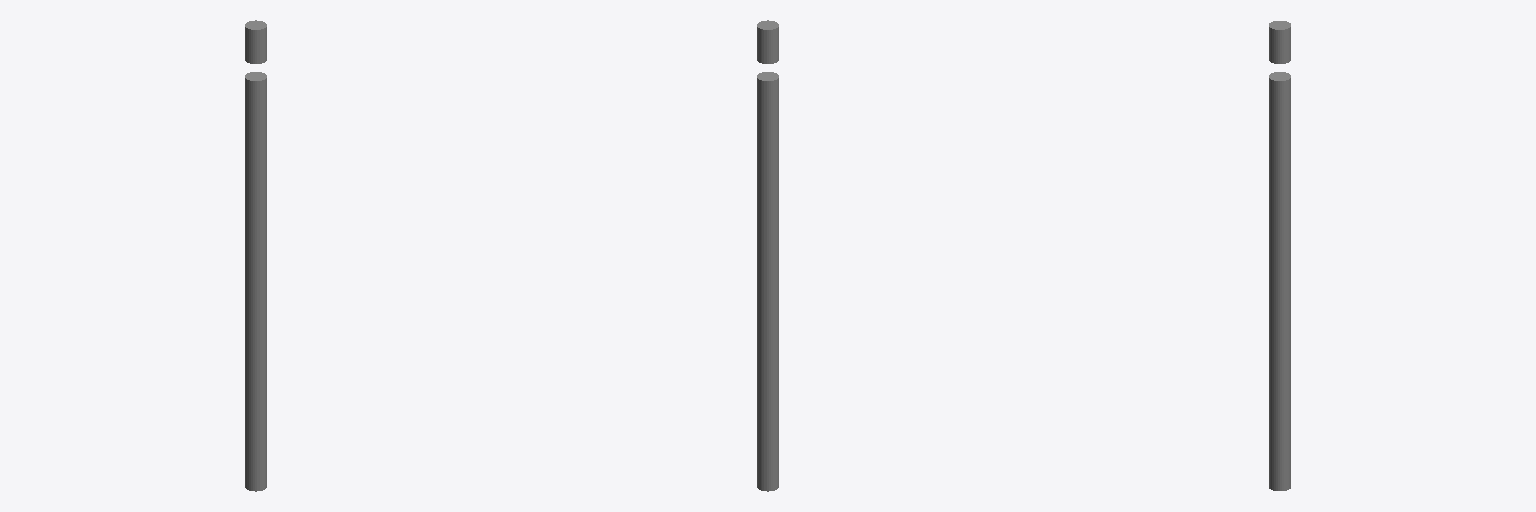
The robot description file, URDF, robot "kr1205":
<?xml version="1.0" ?>
<!-- =================================================================================== -->
<!-- |    This document was autogenerated by xacro from 7_axis.urdf.xacro              | -->
<!-- |    EDITING THIS FILE BY HAND IS NOT RECOMMENDED                                 | -->
<!-- =================================================================================== -->
<robot name="kr1205">
  <material name="gray">
    <color rgba="0.6 0.6 0.6 1.0"/>
  </material>
  <!-- Base link -->
  <link name="base_link"/>
  <!-- Joint 1 -->
  <joint name="joint_1" type="revolute">
    <parent link="base_link"/>
    <child link="link_1"/>
    <origin rpy="0 0 0" xyz="0 0 0.1"/>
    <axis xyz="0 0 1"/>
    <limit effort="100" lower="-3.14" upper="3.14" velocity="1.0"/>
  </joint>
  <link name="link_1">
    <visual>
      <geometry>
        <cylinder length="0.2" radius="0.03"/>
      </geometry>
      <material name="gray"/>
    </visual>
  </link>
  <!-- Joint 2 -->
  <joint name="joint_2" type="revolute">
    <parent link="link_1"/>
    <child link="link_2"/>
    <origin rpy="0 0 0" xyz="0 0 0.2"/>
    <axis xyz="0 1 0"/>
    <limit effort="100" lower="-3.14" upper="3.14" velocity="1.0"/>
  </joint>
  <link name="link_2">
    <visual>
      <geometry>
        <cylinder length="0.2" radius="0.03"/>
      </geometry>
      <material name="gray"/>
    </visual>
  </link>
  <!-- Joint 3 -->
  <joint name="joint_3" type="revolute">
    <parent link="link_2"/>
    <child link="link_3"/>
    <origin rpy="0 0 0" xyz="0 0 0.2"/>
    <axis xyz="0 0 1"/>
    <limit effort="100" lower="-3.14" upper="3.14" velocity="1.0"/>
  </joint>
  <link name="link_3">
    <visual>
      <geometry>
        <cylinder length="0.2" radius="0.03"/>
      </geometry>
      <material name="gray"/>
    </visual>
  </link>
  <!-- Joint 4 -->
  <joint name="joint_4" type="revolute">
    <parent link="link_3"/>
    <child link="link_4"/>
    <origin rpy="0 0 0" xyz="0 0 0.2"/>
    <axis xyz="0 1 0"/>
    <limit effort="100" lower="-3.14" upper="3.14" velocity="1.0"/>
  </joint>
  <link name="link_4">
    <visual>
      <geometry>
        <cylinder length="0.2" radius="0.03"/>
      </geometry>
      <material name="gray"/>
    </visual>
  </link>
  <!-- Joint 5 -->
  <joint name="joint_5" type="revolute">
    <parent link="link_4"/>
    <child link="link_5"/>
    <origin rpy="0 0 0" xyz="0 0 0.2"/>
    <axis xyz="0 0 1"/>
    <limit effort="100" lower="-3.14" upper="3.14" velocity="1.0"/>
  </joint>
  <link name="link_5">
    <visual>
      <geometry>
        <cylinder length="0.2" radius="0.03"/>
      </geometry>
      <material name="gray"/>
    </visual>
  </link>
  <!-- Joint 6 -->
  <joint name="joint_6" type="revolute">
    <parent link="link_5"/>
    <child link="link_6"/>
    <origin rpy="0 0 0" xyz="0 0 0.2"/>
    <axis xyz="0 1 0"/>
    <limit effort="100" lower="-3.14" upper="3.14" velocity="1.0"/>
  </joint>
  <link name="link_6">
    <visual>
      <geometry>
        <cylinder length="0.2" radius="0.03"/>
      </geometry>
      <material name="gray"/>
    </visual>
  </link>
  <!-- Joint 7 -->
  <joint name="joint_7" type="revolute">
    <parent link="link_6"/>
    <child link="link_7"/>
    <origin rpy="0 0 0" xyz="0 0 0.2"/>
    <axis xyz="0 0 1"/>
    <limit effort="100" lower="-3.14" upper="3.14" velocity="1.0"/>
  </joint>
  <link name="link_7">
    <visual>
      <geometry>
        <cylinder length="0.1" radius="0.03"/>
      </geometry>
      <material name="gray"/>
    </visual>
  </link>
</robot>

--- Render facts (derived) ---
Views: 3 orthographic renders of the robot side by side, from view 1: azimuth 30°, elevation 25°; view 2: azimuth 150°, elevation 25°; view 3: azimuth 270°, elevation 25°.
Model kr1205 with 8 links and 7 joints (7 revolute), rooted at base_link, posed all joints at 0.
Visible links, largest first — view 1: link_6, link_3, link_5, link_2, link_4, link_1, link_7; view 2: link_6, link_3, link_5, link_2, link_4, link_1, link_7; view 3: link_6, link_3, link_5, link_1, link_4, link_2, link_7.
Link boxes in pixels (x1,y1,x2,y2): link_6: (245, 72, 266, 149); link_3: (245, 283, 266, 354); link_5: (245, 147, 266, 217); link_2: (245, 352, 266, 422); link_4: (245, 215, 266, 285); link_1: (245, 420, 266, 491); link_7: (245, 20, 266, 63); link_6: (757, 72, 778, 149); link_3: (757, 283, 778, 354); link_5: (757, 147, 778, 217); link_2: (757, 352, 778, 422); link_4: (757, 215, 778, 285); link_1: (757, 420, 778, 491); link_7: (757, 20, 778, 63); link_6: (1269, 72, 1290, 149); link_3: (1269, 283, 1290, 354); link_5: (1269, 147, 1290, 217); link_1: (1269, 420, 1290, 490); link_4: (1269, 215, 1290, 285); link_2: (1269, 352, 1290, 422); link_7: (1269, 21, 1290, 63).
Size in the robot's own frame: 0.06 by 0.06 by 1.35 metres.
Geometry: primitives only (box / cylinder / sphere), no mesh files.
